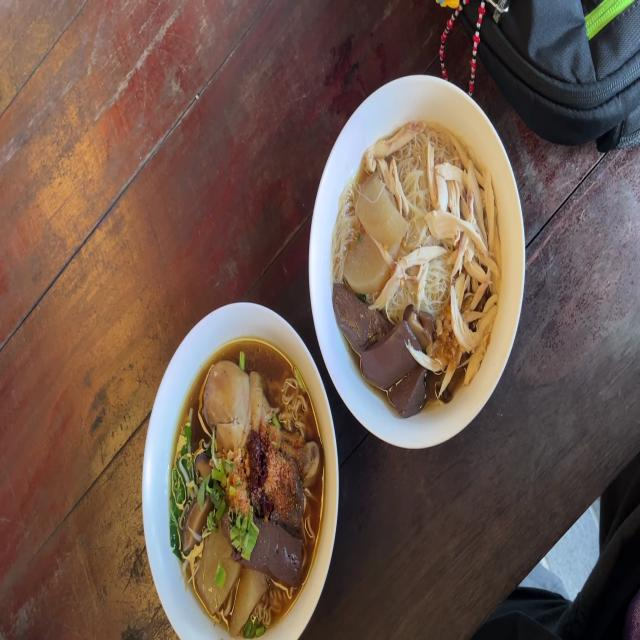noodle: (333, 280, 388, 346), (255, 524, 303, 580), (366, 324, 408, 378), (396, 371, 422, 406), (292, 473, 306, 525)
